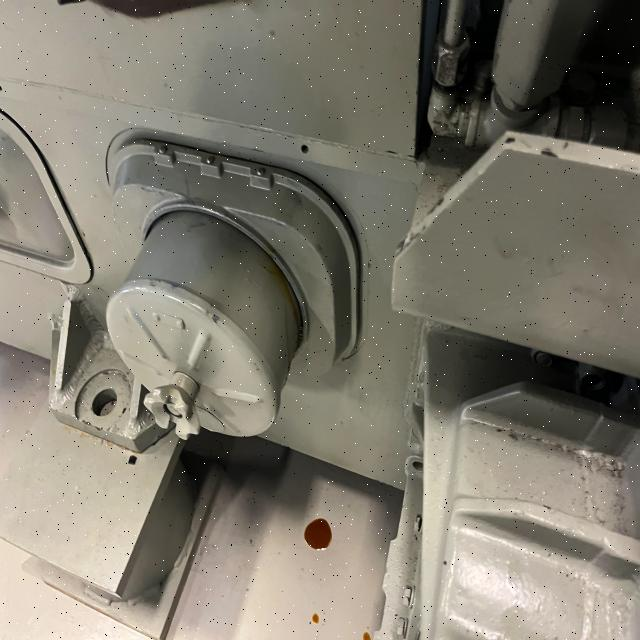Oil Leak: (252, 245, 313, 359), (300, 515, 338, 555), (312, 614, 319, 623), (363, 632, 370, 640)
